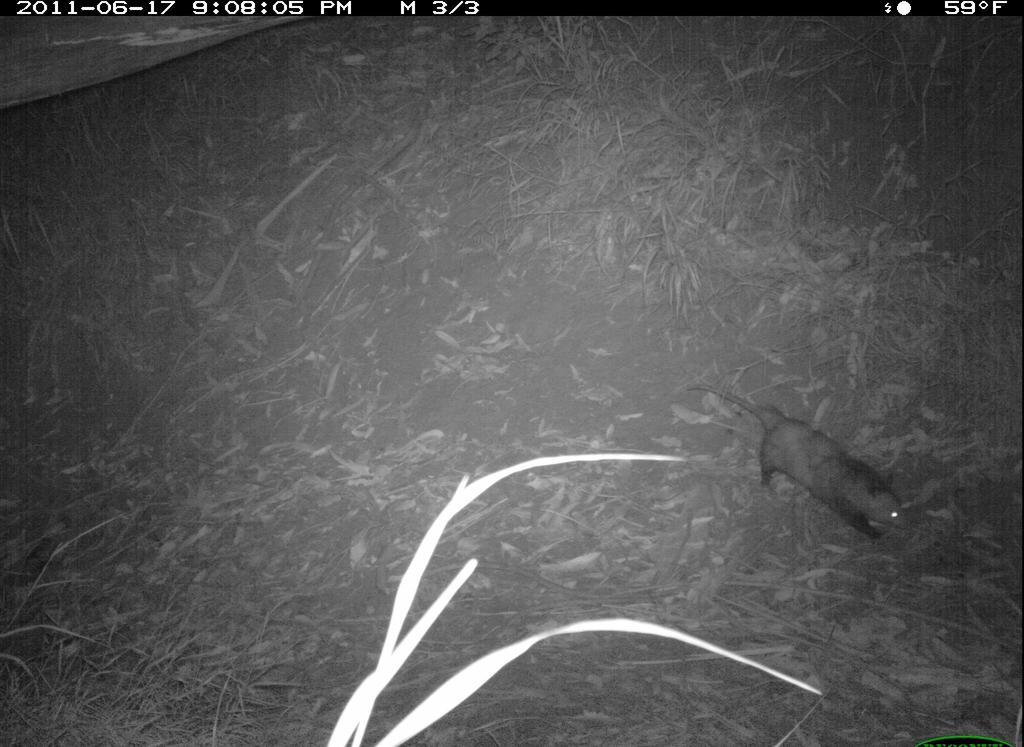opossum: (674, 355, 943, 560)
